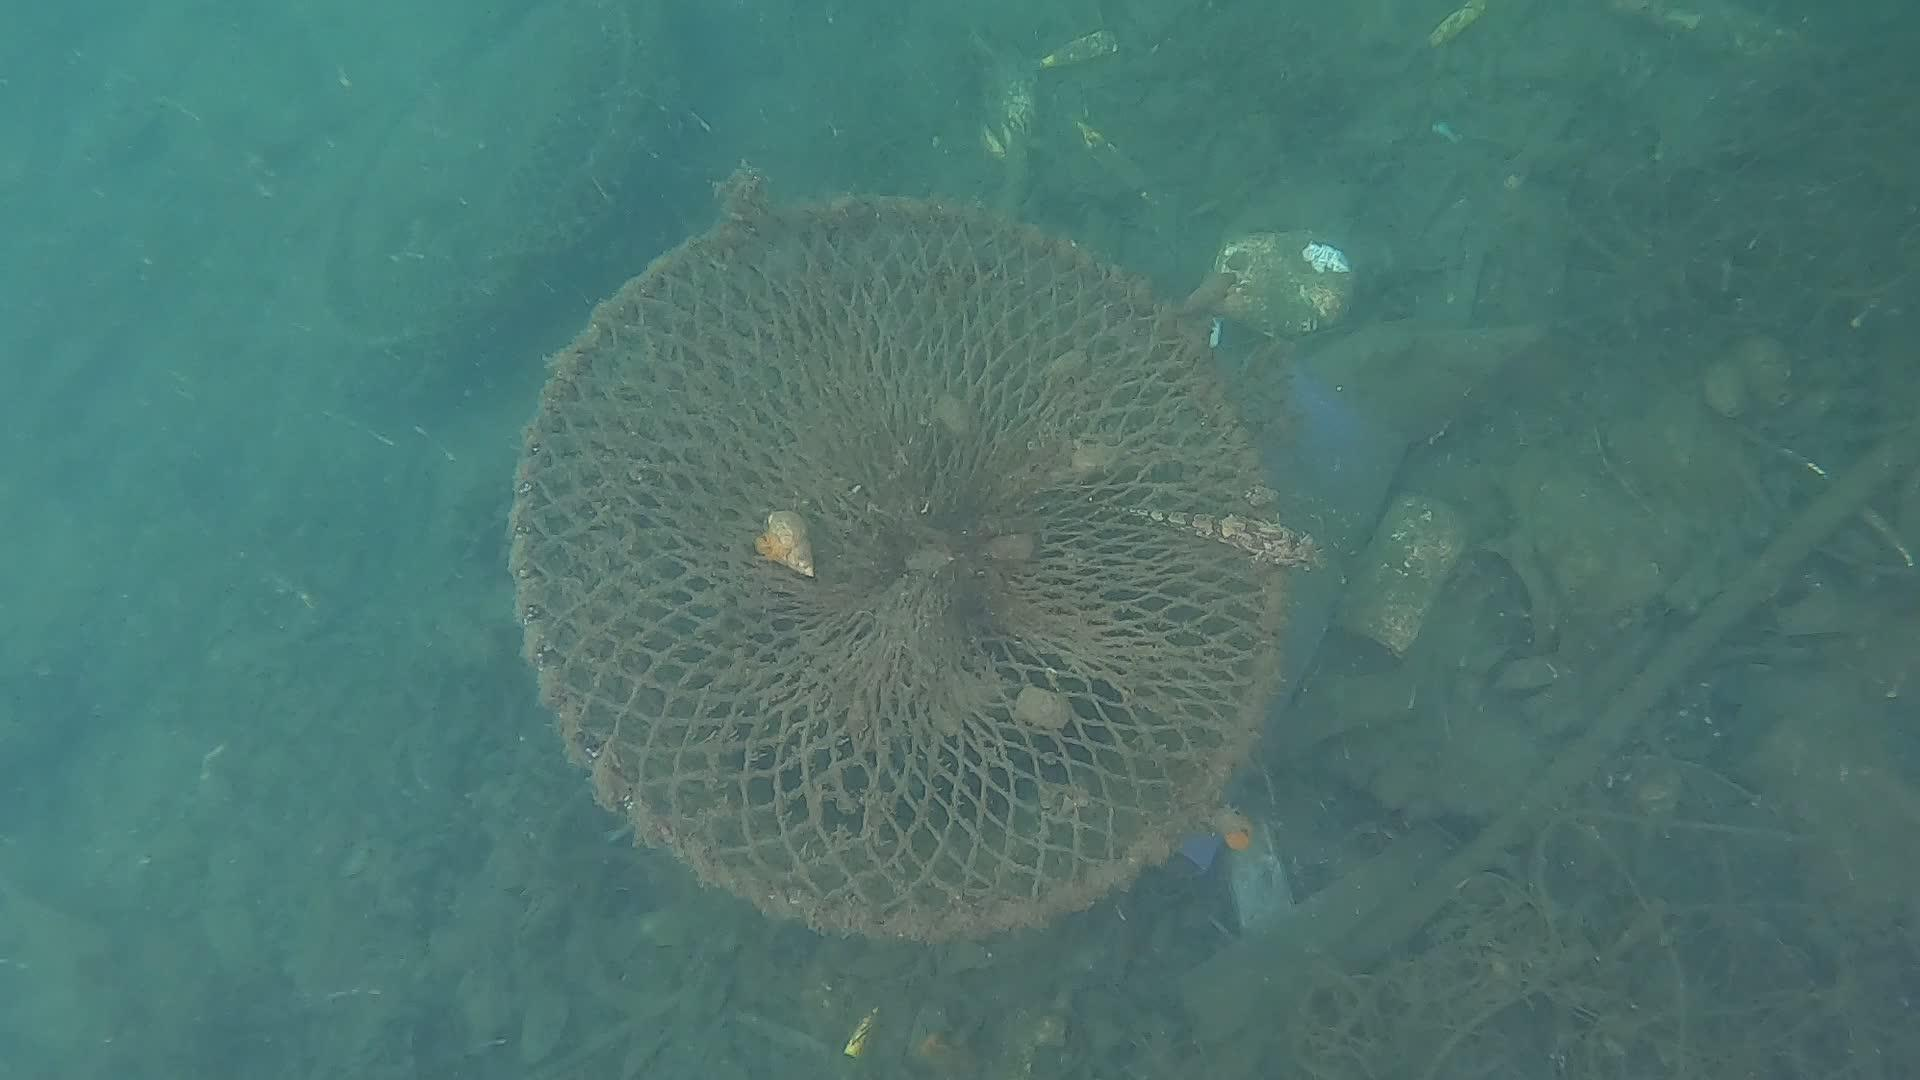circular fish trap: (510, 189, 1296, 947)
